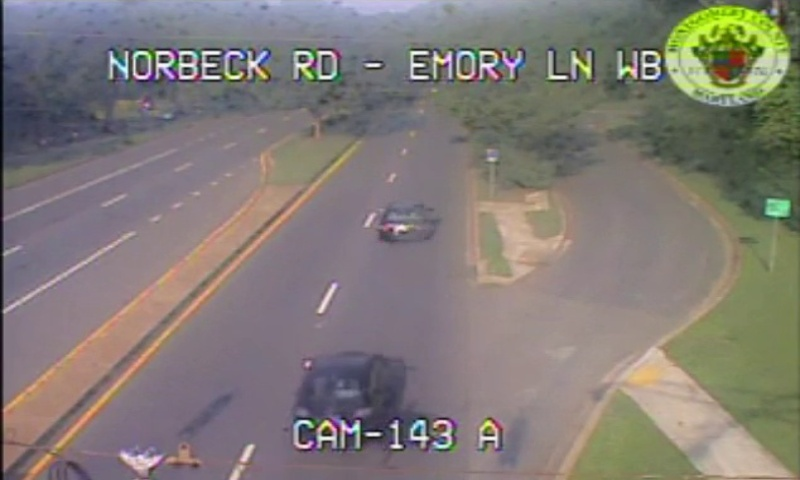car: (295, 353, 391, 437), (378, 203, 427, 241)
